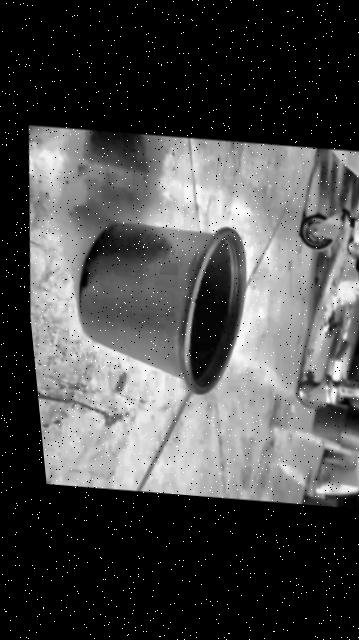pot: (62, 213, 260, 398)
